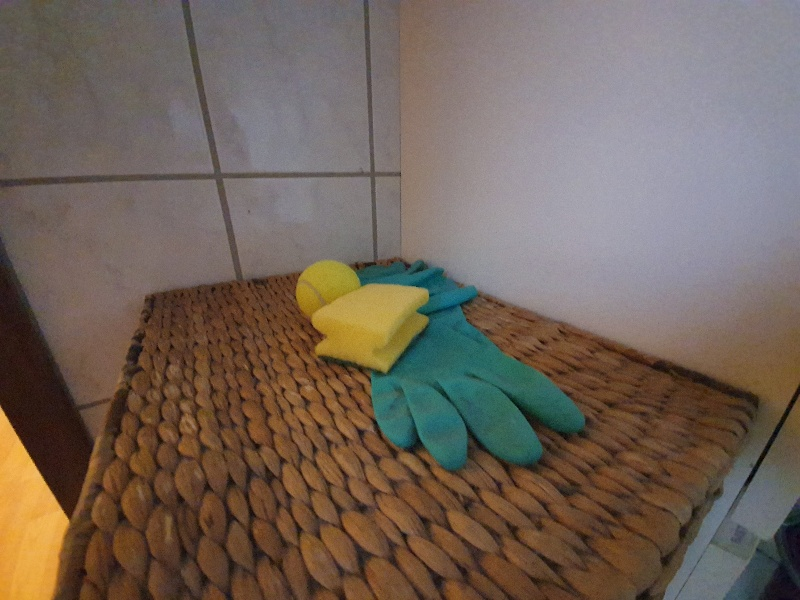Tennisball: (284, 254, 363, 328)
